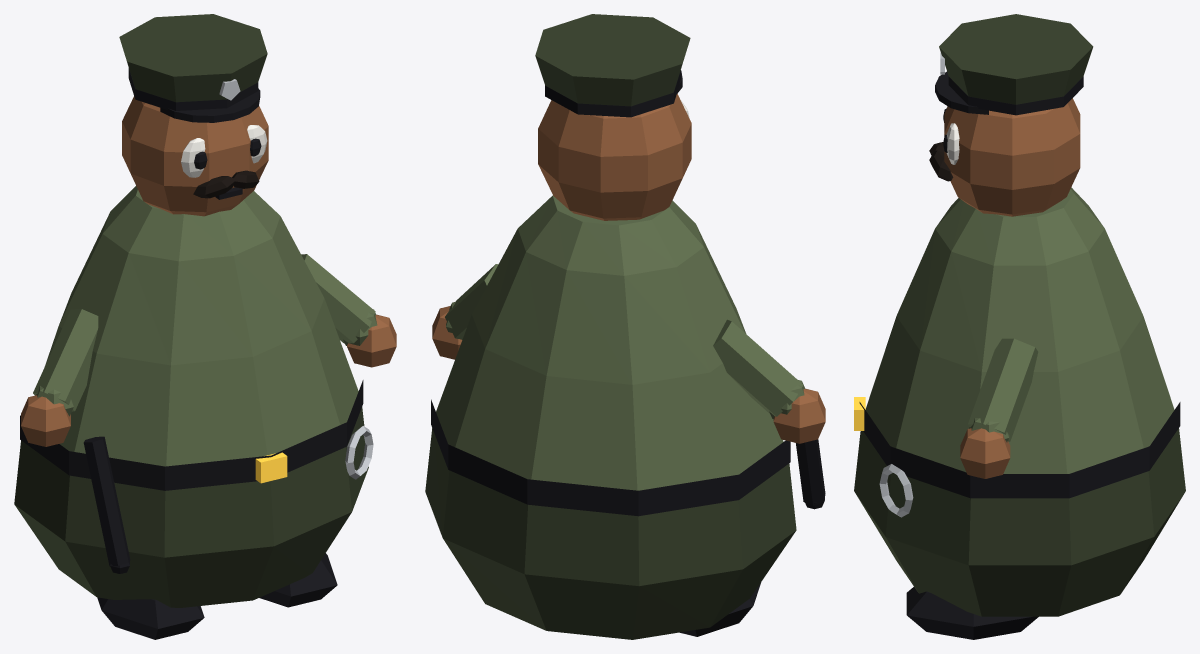
Rendered from npc_carcelero.glb.
3 views of the same model, side by side, from view 1: azimuth 30°, elevation 25°; view 2: azimuth 150°, elevation 25°; view 3: azimuth 270°, elevation 25° (orthographic). The views are drawn at different scales.
Visible parts, largest first — view 1: body_guard_uniform, body_guard_dark, head_skin_cacao, cap_guard_dark, body_black, arms_guard_uniform, legs_black, arms_skin_cacao, props_black, cap_black, face_white, face_hair_black (+3 smaller); view 2: body_guard_uniform, body_guard_dark, head_skin_cacao, cap_guard_dark, body_black, arms_guard_uniform, arms_skin_cacao, cap_black, props_black, legs_black; view 3: body_guard_uniform, body_guard_dark, head_skin_cacao, cap_guard_dark, body_black, arms_guard_uniform, legs_black, cap_black, arms_skin_cacao, body_silver, face_hair_black.
Part boxes in pixels (<box>): body_guard_uniform: <box>45,186,358,466</box>; body_guard_dark: <box>14,407,368,607</box>; head_skin_cacao: <box>122,96,268,216</box>; cap_guard_dark: <box>119,14,267,102</box>; body_black: <box>20,380,363,490</box>; arms_guard_uniform: <box>33,254,377,416</box>; legs_black: <box>97,553,337,639</box>; arms_skin_cacao: <box>21,314,396,446</box>; props_black: <box>83,436,130,573</box>; cap_black: <box>128,68,260,122</box>; face_white: <box>181,125,267,177</box>; face_hair_black: <box>193,170,259,198</box>; body_guard_uniform: <box>436,195,783,490</box>; body_guard_dark: <box>425,428,796,639</box>; head_skin_cacao: <box>538,94,691,220</box>; cap_guard_dark: <box>535,14,690,106</box>; body_black: <box>431,399,790,516</box>; arms_guard_uniform: <box>445,264,805,418</box>; arms_skin_cacao: <box>432,306,825,443</box>; cap_black: <box>545,70,682,117</box>; props_black: <box>796,439,825,509</box>; legs_black: <box>679,582,761,636</box>; body_guard_uniform: <box>865,187,1174,473</box>; body_guard_dark: <box>854,428,1185,616</box>; head_skin_cacao: <box>944,98,1080,216</box>; cap_guard_dark: <box>939,14,1093,104</box>; body_black: <box>859,402,1180,498</box>; arms_guard_uniform: <box>968,338,1038,442</box>; legs_black: <box>906,587,1038,639</box>; cap_black: <box>935,71,1083,115</box>; arms_skin_cacao: <box>960,428,1010,478</box>; body_silver: <box>879,464,913,517</box>; face_hair_black: <box>929,142,953,181</box>.
Bounding box in the file's own units: 1.13 × 1.58 × 0.86.
